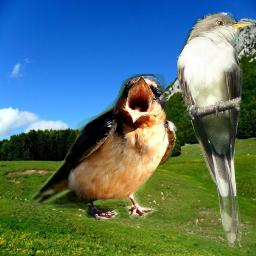Cuckoo: (177, 11, 254, 249)
Swallow: (29, 74, 178, 219)
